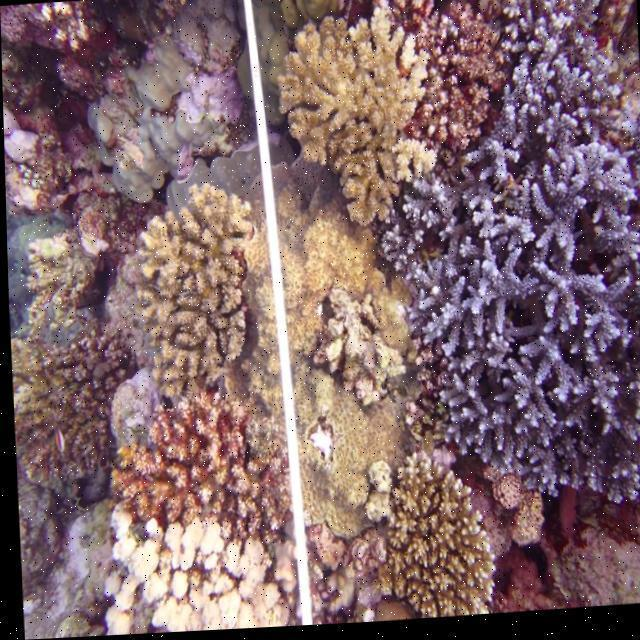Bleached Coral: (100, 523, 288, 636)
Healthy Coral: (280, 1, 482, 222), (140, 201, 288, 366), (116, 384, 282, 514), (377, 451, 500, 610), (20, 336, 106, 484)
